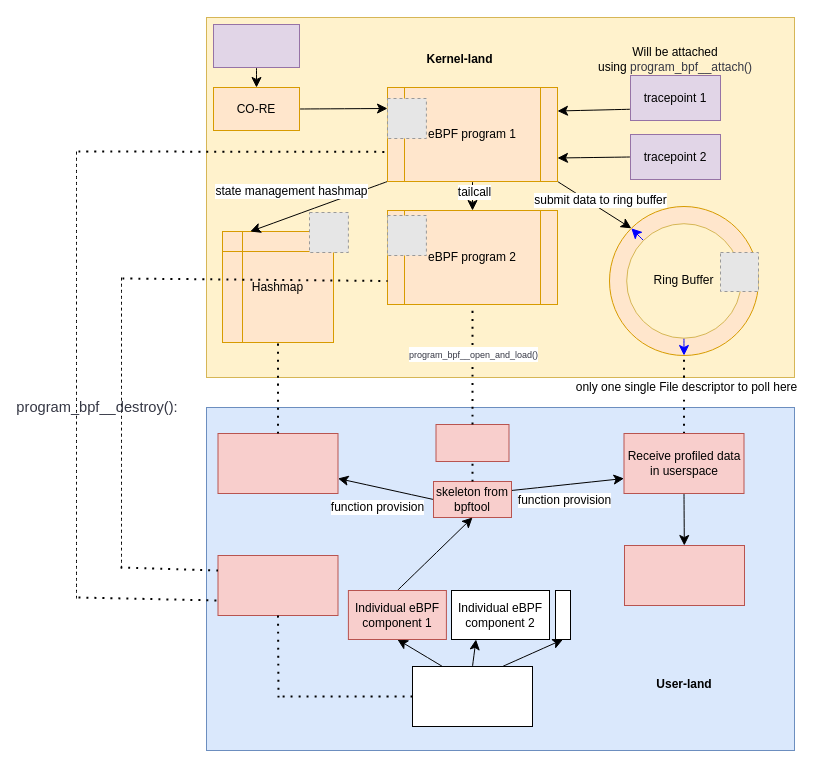
The diagram is 814 pixels wide and 768 high, and some of its shapes have lost their labels. Grey dashed boxes stand in for pictures. Each missing label, with the centre of its shape:
"Graceful cleanup" belongs at [277,585].
"Kernel Headers" belongs at [256,46].
"Load into kernel" belongs at [472,443].
"Manage and read state from userspace" belongs at [277,463].
"sysprof-ebpf" belongs at [472,696].
"Write to the syscap" belongs at [684,575].
